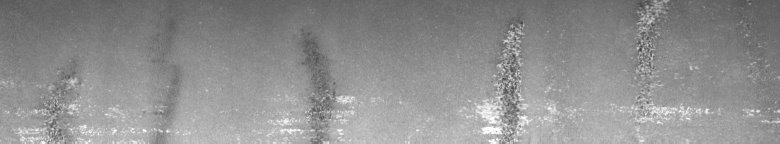hc: (464, 20, 561, 136)
